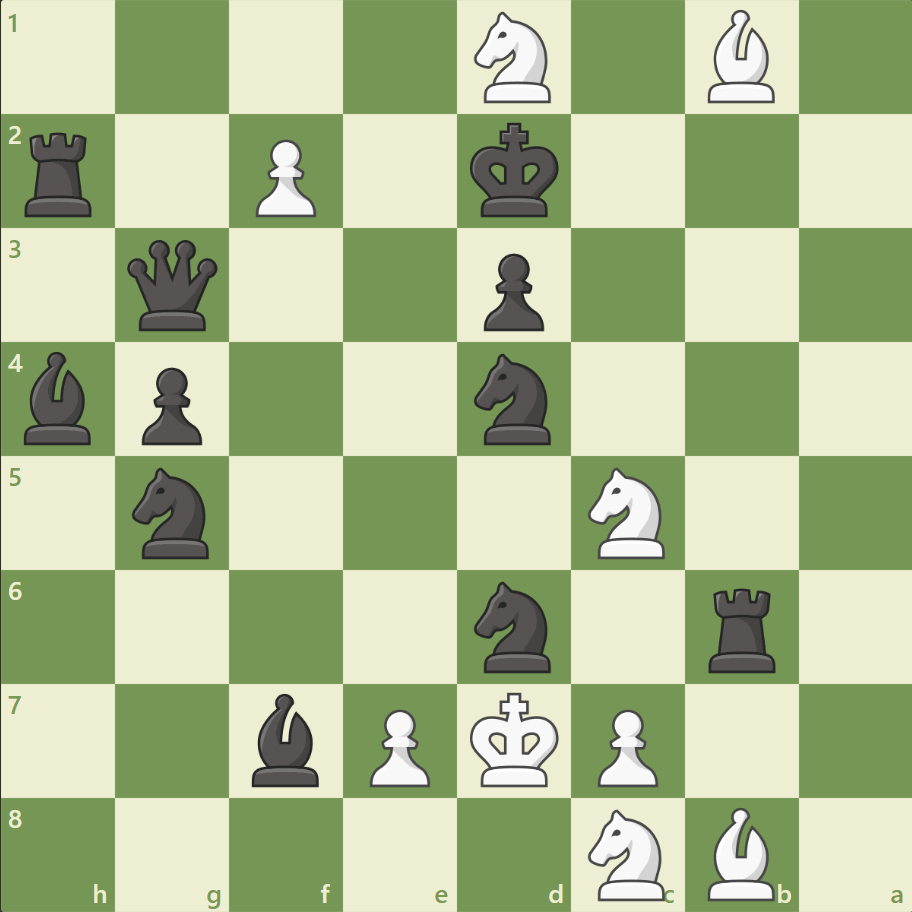B: (698, 801, 782, 904), (698, 6, 782, 109)
K: (465, 685, 565, 793)
N: (579, 461, 676, 564), (465, 7, 562, 110), (579, 802, 676, 904)
P: (247, 132, 322, 223), (588, 700, 662, 791), (361, 700, 435, 791)
b: (244, 687, 328, 790), (17, 347, 101, 449)
k: (465, 117, 565, 225)
n: (124, 461, 222, 564), (465, 575, 562, 677), (465, 348, 562, 450)
p: (133, 359, 208, 450), (474, 246, 549, 337)
q: (124, 236, 223, 335)
r: (700, 579, 783, 676), (19, 125, 102, 222)
